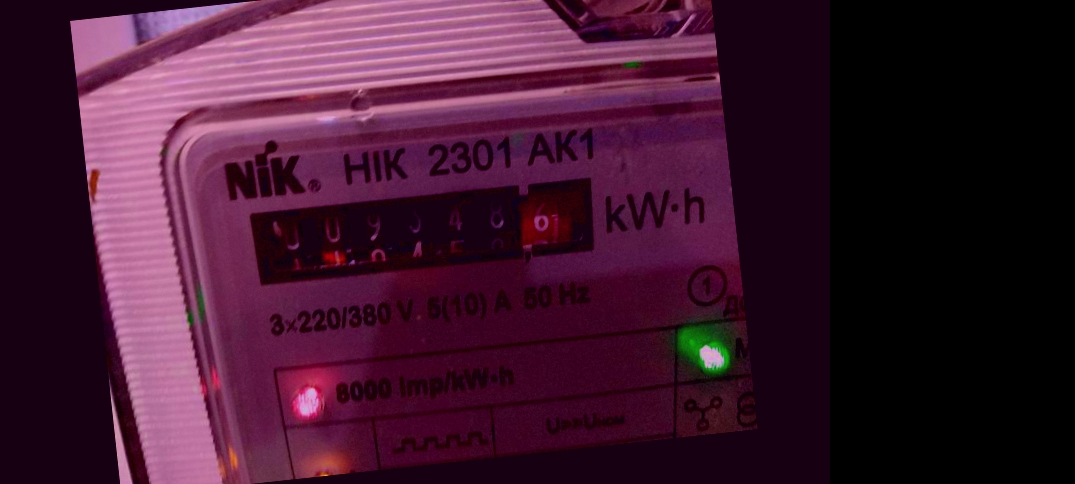0: (319, 209, 343, 247), (278, 215, 302, 252)
3: (400, 201, 426, 235)
4: (440, 197, 465, 236)
6: (528, 197, 553, 233)
8: (483, 194, 506, 230)
9: (361, 206, 383, 241)
screen: (224, 160, 618, 303)
